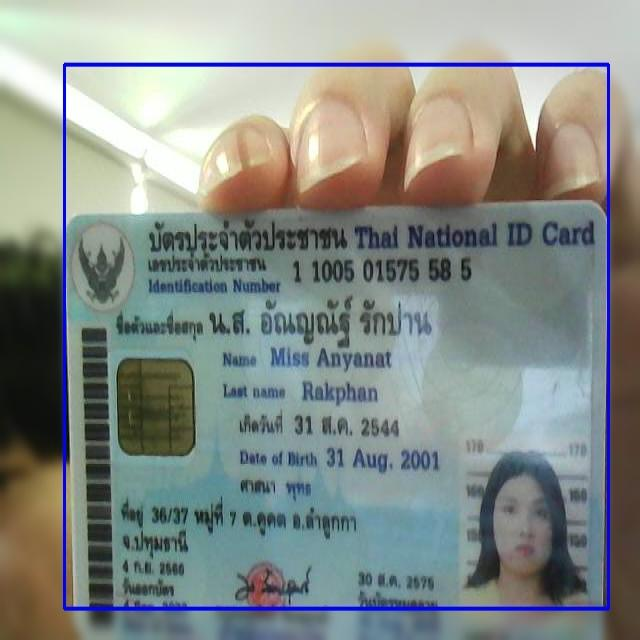Address_th: (118, 493, 366, 560)
Date_of_Birth: (323, 444, 442, 476)
First_Name: (270, 344, 393, 374)
ID_Number: (291, 255, 474, 285)
Last_Name: (300, 376, 380, 408)
Thai_Name: (206, 291, 452, 347), (233, 405, 414, 448)
